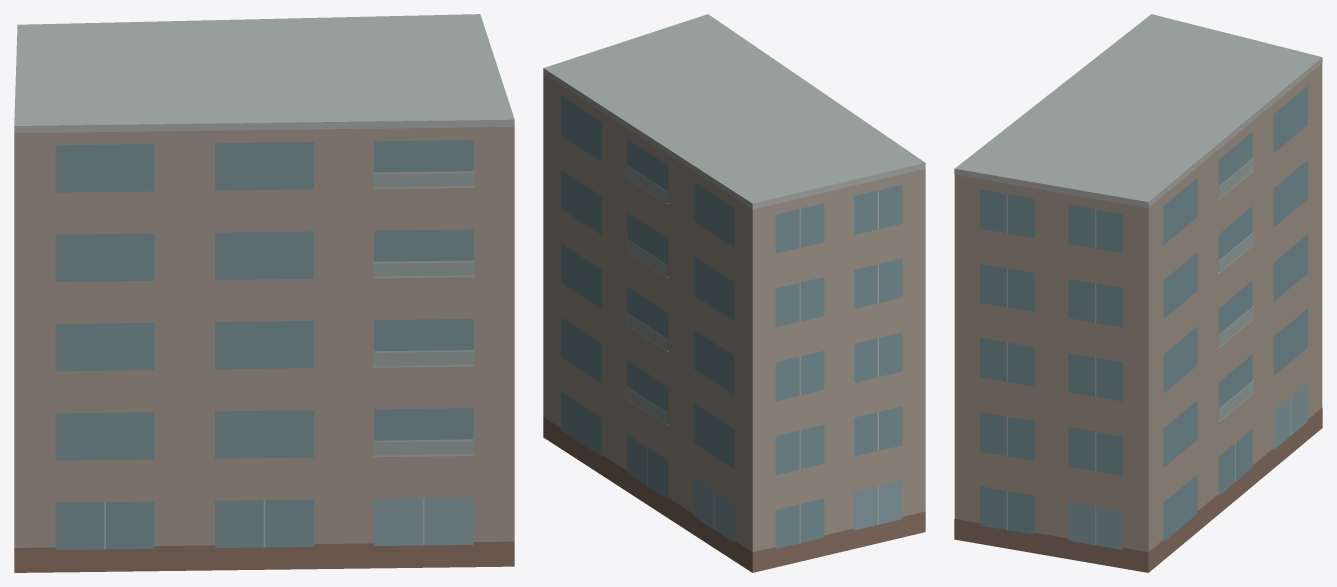
The model's file is survey-upis-32524662.glb.
3 views of the same model, side by side, from view 1: azimuth 30°, elevation 25°; view 2: azimuth 150°, elevation 25°; view 3: azimuth 270°, elevation 25° (orthographic). The views are drawn at different scales.
Visible parts, largest first — view 1: survey-upis-32524662.tmp; view 2: survey-upis-32524662.tmp; view 3: survey-upis-32524662.tmp.
Boxes of the visible parts, x1,y1,x2,y2 form: survey-upis-32524662.tmp: [14, 14, 514, 572]; survey-upis-32524662.tmp: [543, 14, 925, 572]; survey-upis-32524662.tmp: [954, 14, 1322, 572].
Size of the model in its own units: 16.59 by 15.25 by 13.72.
